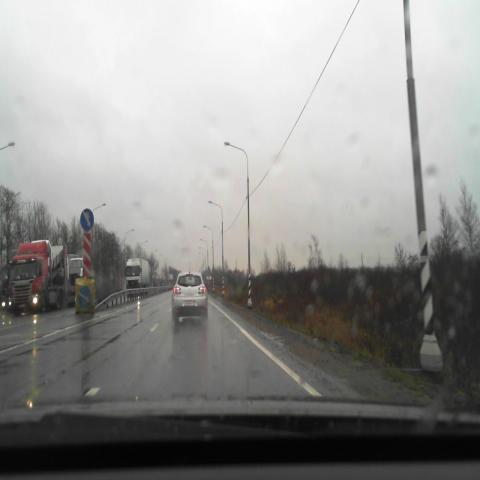4_2_1: (78, 285, 92, 310), (80, 208, 94, 231)
